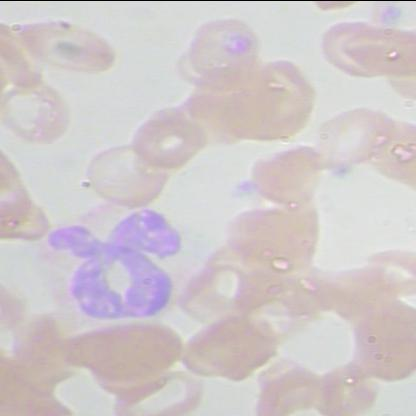Platelets: (233, 174, 260, 198)
RBC: (216, 55, 322, 144), (57, 318, 183, 380), (220, 199, 320, 277), (176, 314, 276, 386), (10, 14, 118, 80), (305, 100, 393, 178), (80, 140, 170, 210), (345, 297, 415, 384), (247, 140, 329, 212), (183, 15, 263, 87), (0, 76, 76, 144), (109, 365, 210, 415), (126, 108, 204, 168), (336, 26, 416, 80), (302, 360, 379, 415)
WBC: (35, 192, 197, 334)
